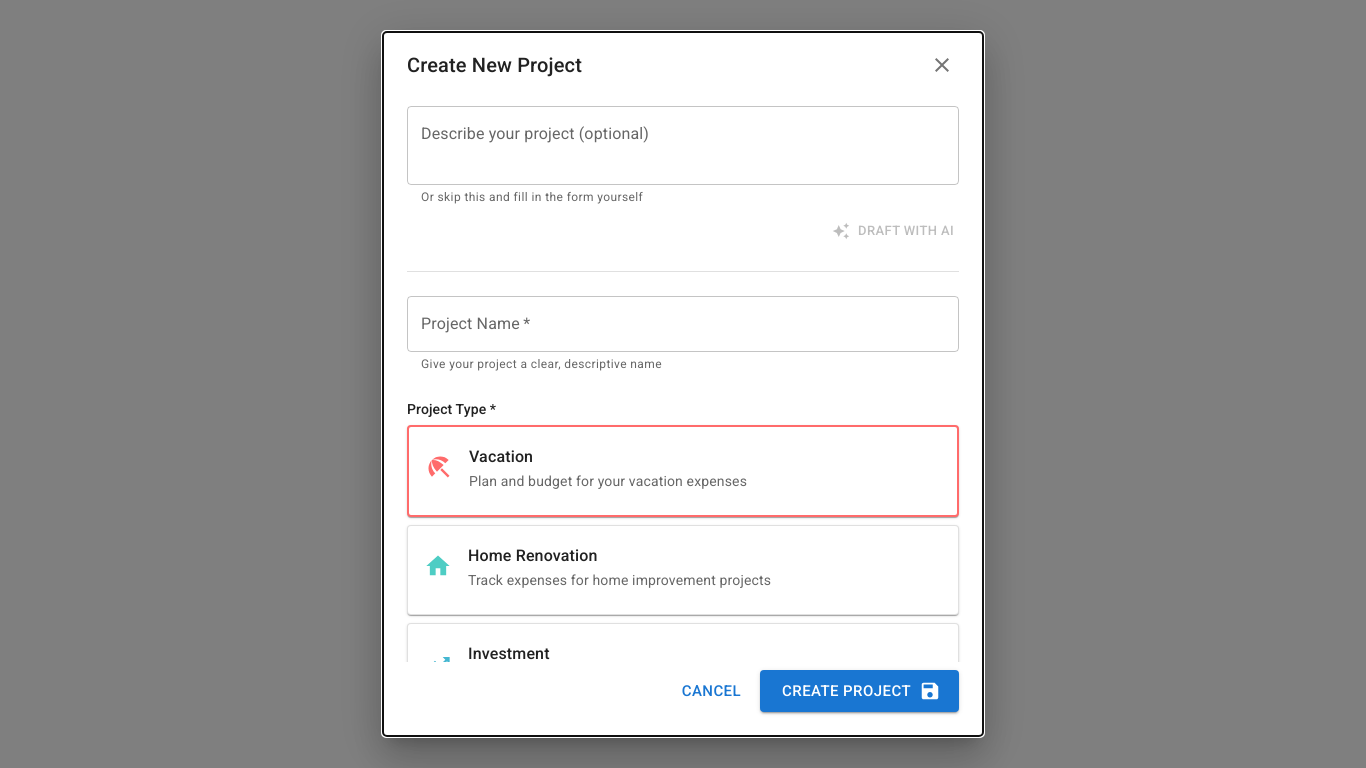
SimpleProjectCreationDialog drafting › fills the form from the description
Type "renovating the kitchen" into the text box labelled "Describe your project (optional)".
click(683, 146); type("renovating the kitchen")  # box x1=421 y1=122 x2=945 y2=168
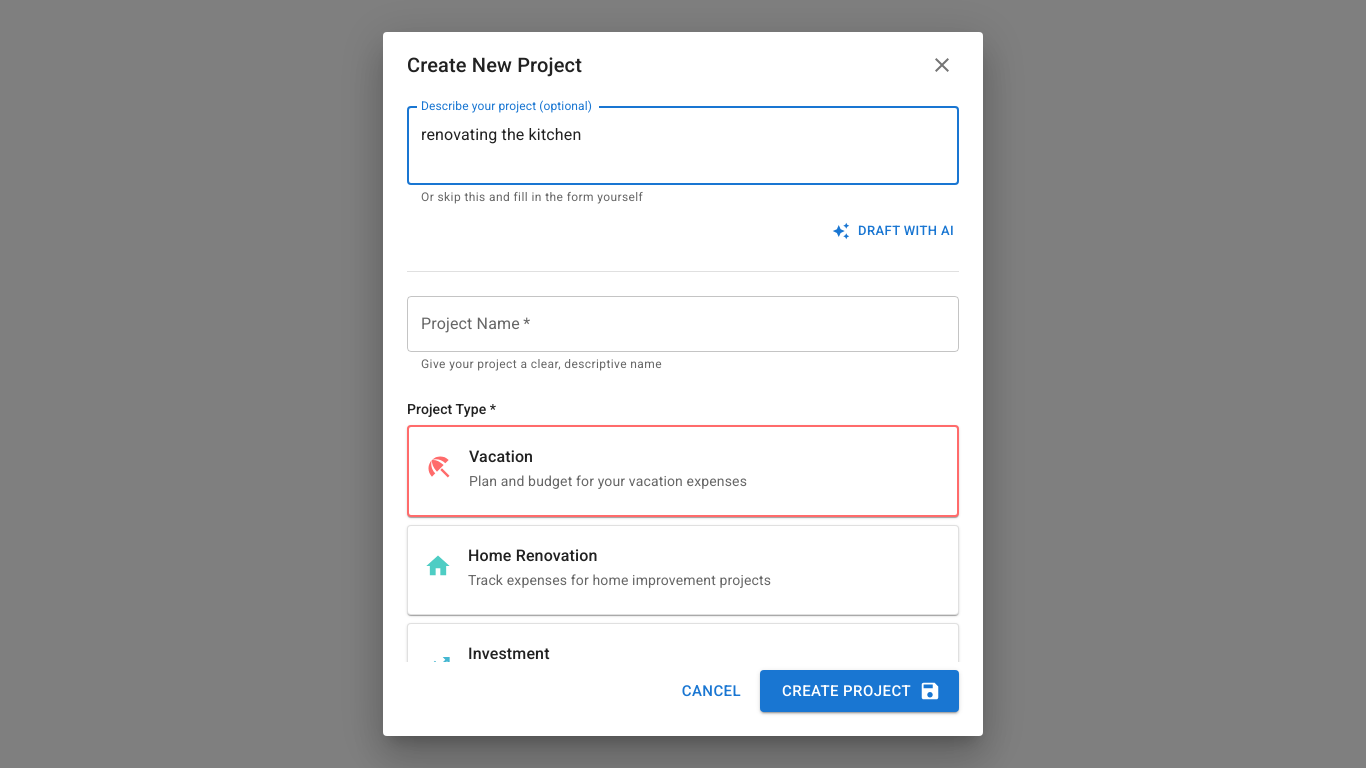
Click the button "Draft with AI".
click(894, 231)  # box x1=829 y1=216 x2=959 y2=247
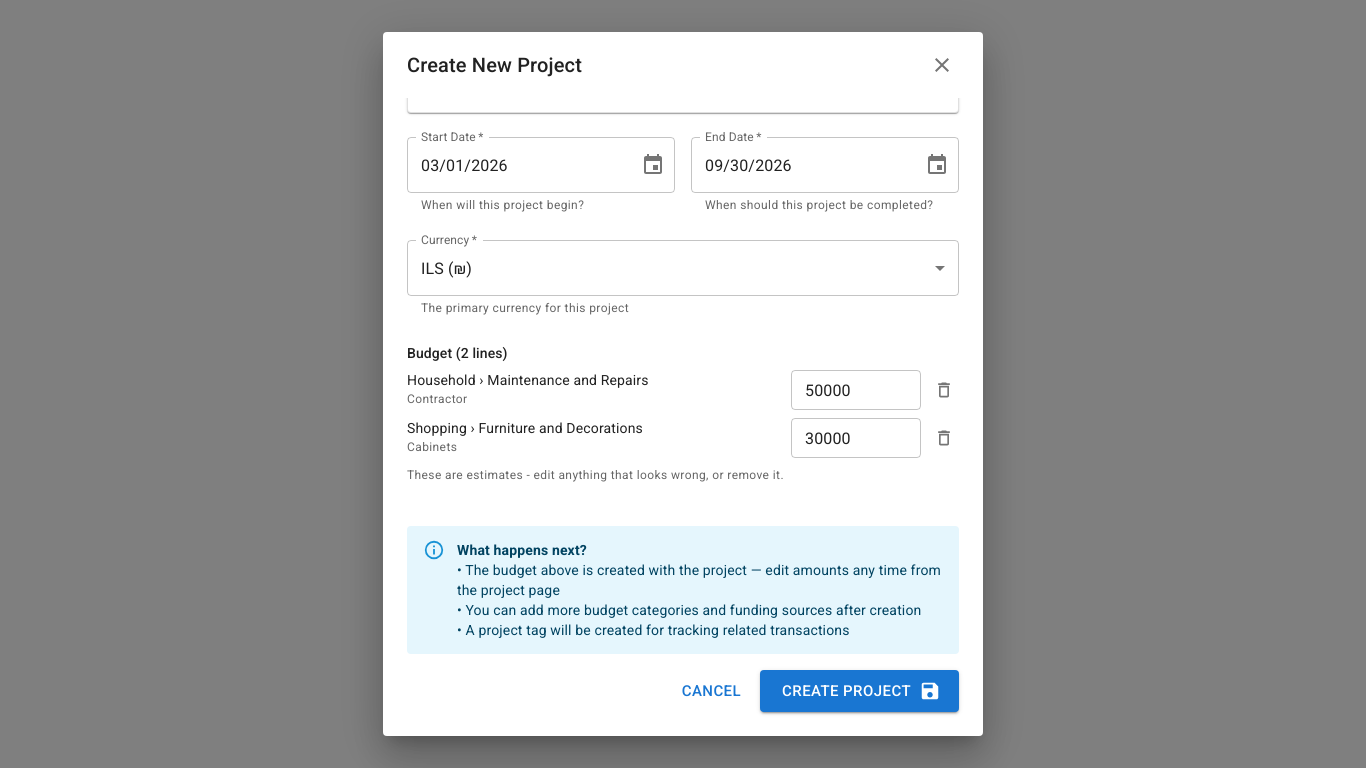
Check: the number field showing "50000" is shown, box x1=791 y1=370 x2=921 y2=410
Check: the text "Household › Maintenance and Repairs" is shown, box x1=407 y1=372 x2=649 y2=388
